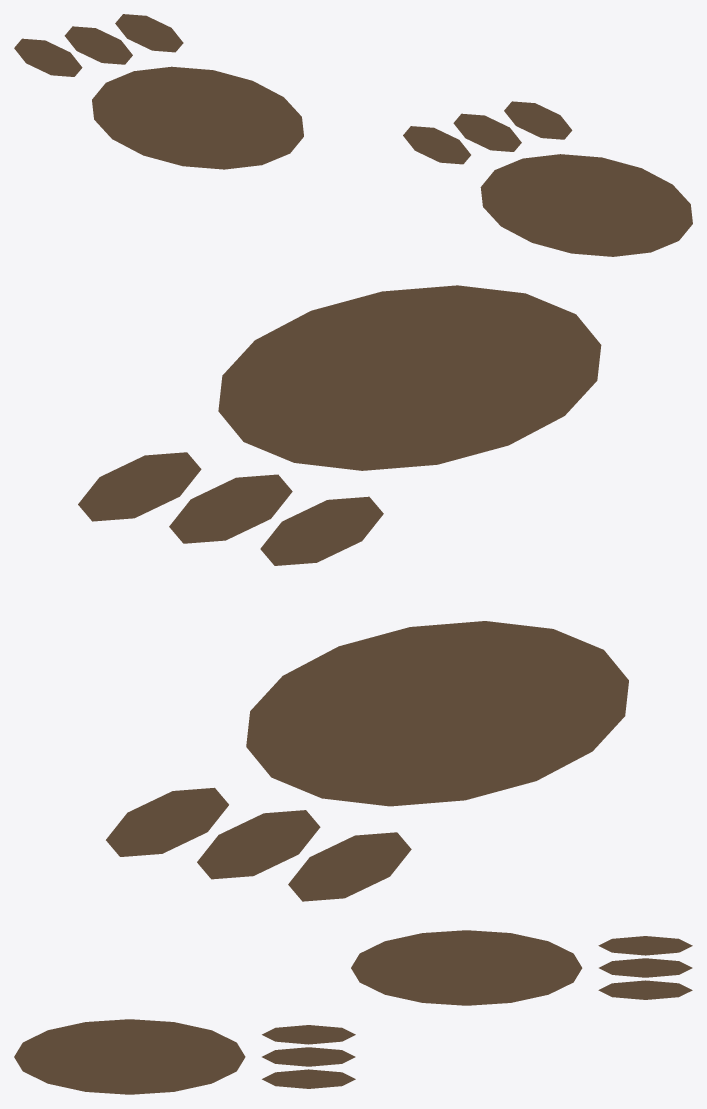
File: Hare_Print_2D.fbx
3 views of the same model, one above another, from view 1: azimuth 30°, elevation 25°; view 2: azimuth 150°, elevation 25°; view 3: azimuth 270°, elevation 25° (orthographic). The views are drawn at different scales.
Visible parts, largest first — view 1: Hare_Print_2D; view 2: Hare_Print_2D; view 3: Hare_Print_2D.
Part boxes in pixels (x1,y1,x2,y2): Hare_Print_2D: (14,14,692,256); Hare_Print_2D: (78,285,628,901); Hare_Print_2D: (14,930,692,1094).
Size of the model in its own units: 0.037 by 1.05e-08 by 0.0645.
